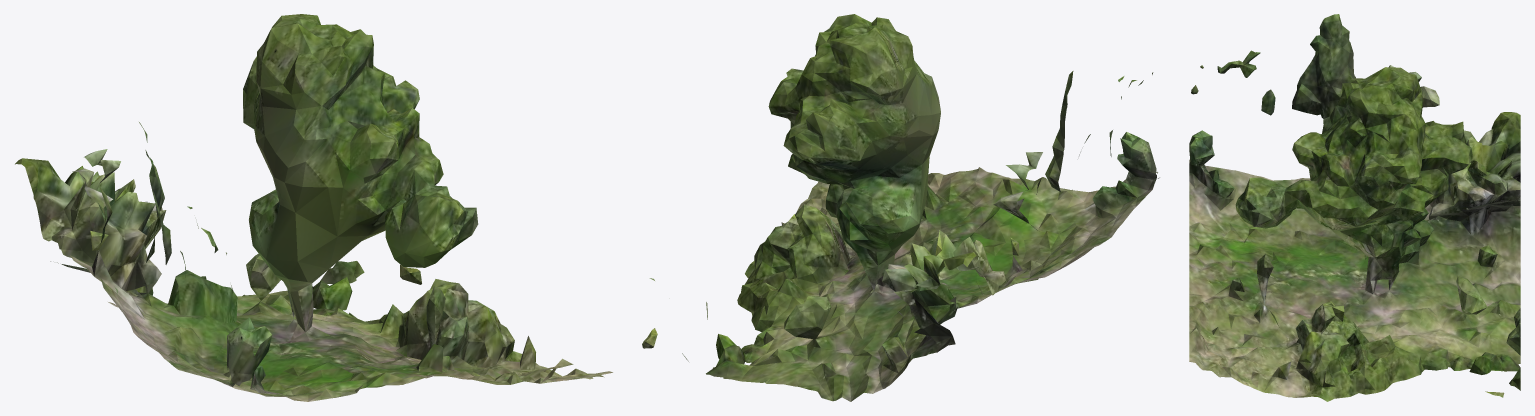
3 renders of one model, left to right at view 1: azimuth 30°, elevation 25°; view 2: azimuth 150°, elevation 25°; view 3: azimuth 270°, elevation 25°, orthographic. The views are drawn at different scales.
Size of the model in its own units: 26.11 by 23.17 by 26.11.
6 materials, 6 textured.
